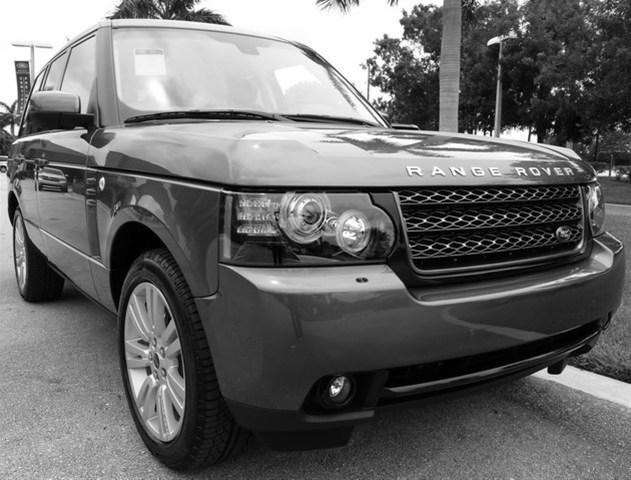car: (9, 18, 626, 471)
